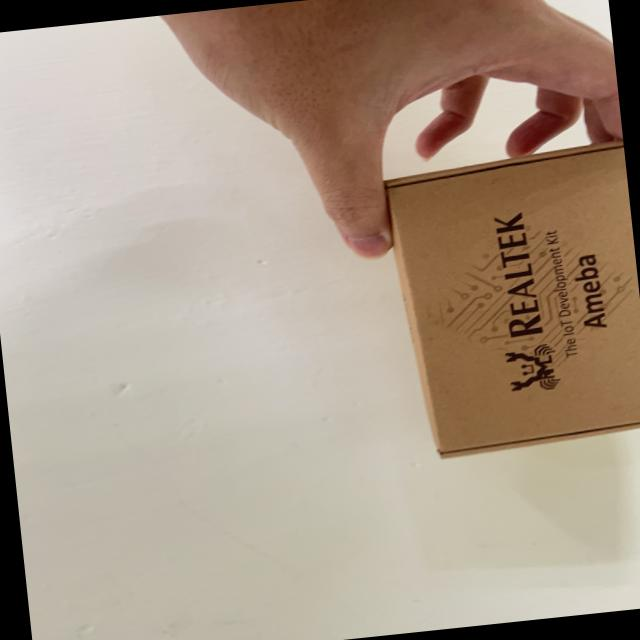box: (343, 126, 640, 477)
